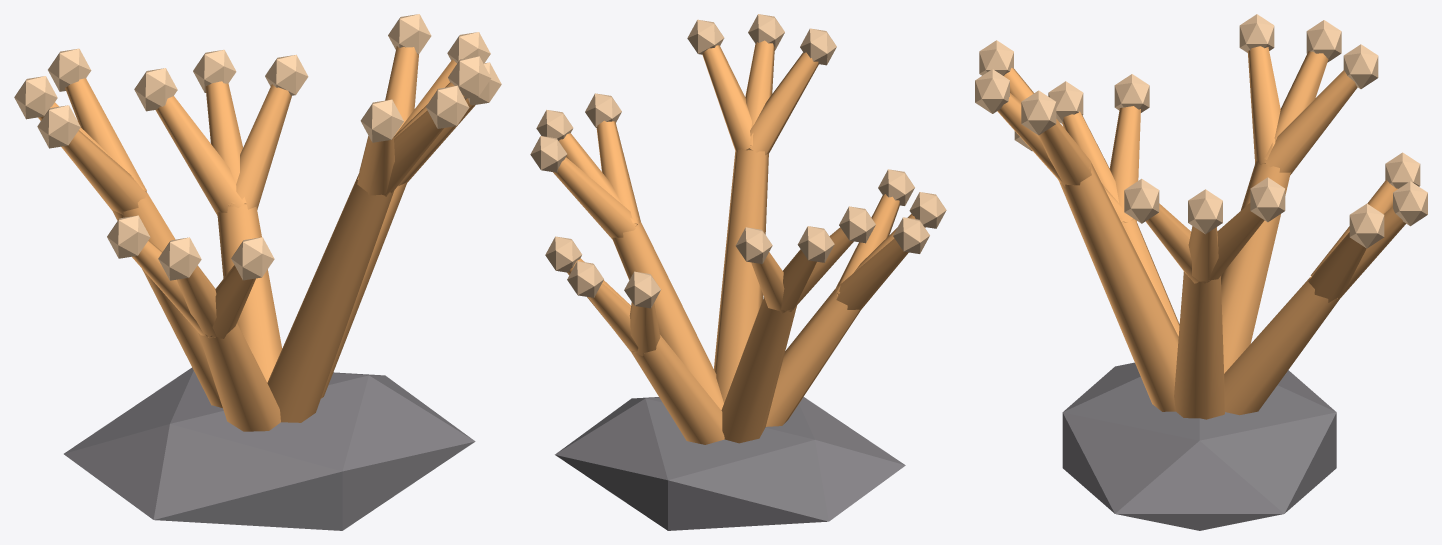
Rendered from ocean-scenery-5.glb.
3 views of the same model, side by side, from view 1: azimuth 30°, elevation 25°; view 2: azimuth 150°, elevation 25°; view 3: azimuth 270°, elevation 25° (orthographic). The views are drawn at different scales.
Parts seen in each view (by area): view 1: Branching ocean coral; view 2: Branching ocean coral; view 3: Branching ocean coral.
Part boxes in pixels (x1=…): Branching ocean coral: x1=14, y1=14, x2=501, y2=530; Branching ocean coral: x1=530, y1=14, x2=946, y2=530; Branching ocean coral: x1=975, y1=14, x2=1427, y2=530.
Size of the model in its own units: 1.53 by 1.67 by 1.55.
